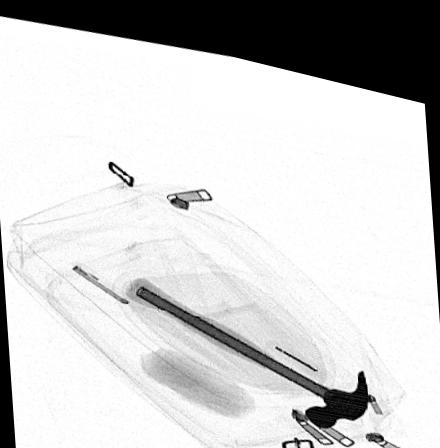Hammer: (123, 269, 369, 411)
